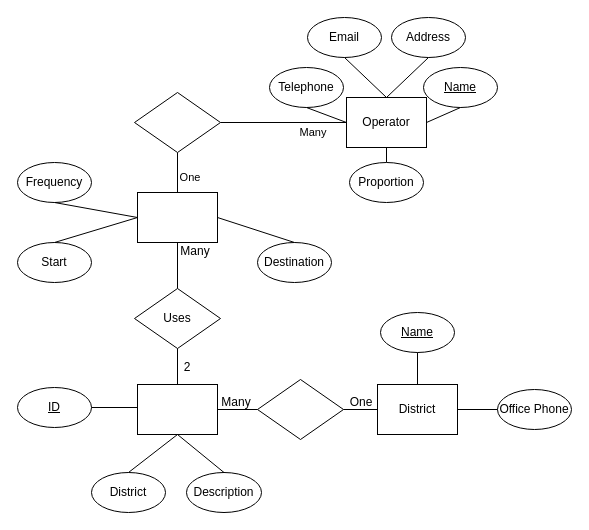
Some shapes in this 589 by 530 pixel diagram are drawn without their labels. Each missing label, with the box of its shape:
BusStop: (136, 384, 218, 434)
Manages: (256, 378, 344, 440)
Operates: (134, 92, 220, 152)
Route: (136, 192, 218, 242)
